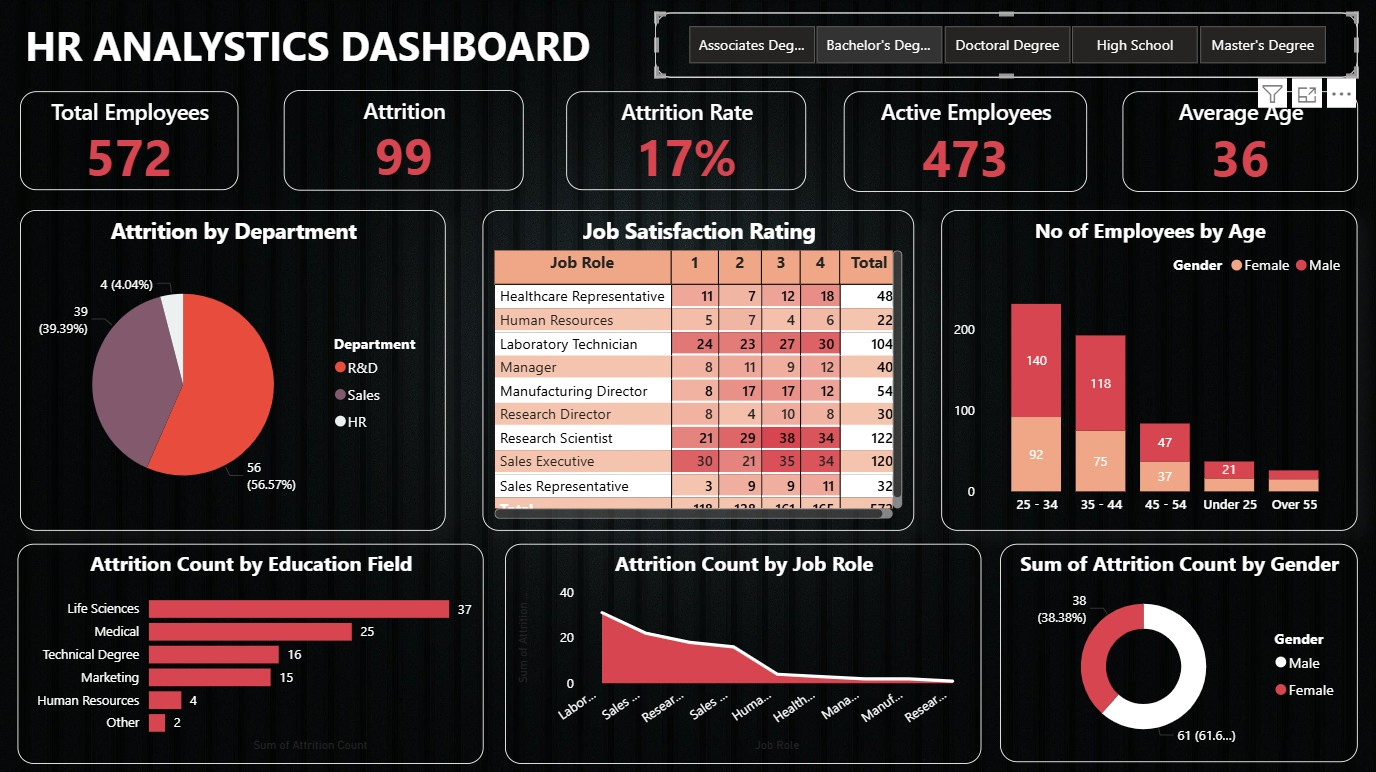

The dashboard page shown, as its layout file describes it:
{"tool":"powerbi","page":{"name":"Page 1","canvas":[1280,720],"ordinal":0},"visuals":[{"type":"card","title":"Total Employees","fields":{"Values":["Sum(HR data.Employee Count)"]},"box":[18.7,85,203,92.2],"z":0},{"type":"card","title":"Attrition","fields":{"Values":["Sum(HR data.Attrition Count)"]},"box":[263.5,83.5,223.2,93.6],"z":1000},{"type":"card","title":"Attrition Rate","fields":{"Values":["HR data.Attrition Rate"]},"box":[527,85,223.2,92.2],"z":2000},{"type":"card","title":"Average Age","fields":{"Values":["Avg(HR data.Age)"]},"box":[1044,85,218.9,93.6],"z":3000},{"type":"card","title":"Active Employees","fields":{"Values":["HR data.Active Employees"]},"box":[784.8,85,226.1,93.6],"z":4000},{"type":"pieChart","title":" Attrition by Department","fields":{"Category":["HR data.Department"],"Y":["Sum(HR data.Attrition Count)"]},"box":[18.7,195.8,396,298.1],"z":5000},{"type":"columnChart","title":"No of Employees  by Age ","fields":{"Series":["HR data.Gender"],"Category":["HR data.CF_age band"],"Y":["Sum(HR data.Employee Count)"]},"box":[875.5,195.8,387.4,298.1],"z":6000},{"type":"pivotTable","title":"Job Satisfaction Rating","fields":{"Rows":["HR data.Job Role"],"Columns":["HR data.Job Satisfaction"],"Values":["Sum(HR data.Employee Count)"]},"box":[449.3,195.8,401.8,298.1],"z":7000},{"type":"barChart","title":"Attrition Count by Education Field","fields":{"Category":["HR data.Education Field"],"Y":["Sum(HR data.Attrition Count)"]},"box":[15.8,505.4,433.4,204.5],"z":8000},{"type":"stackedAreaChart","title":"Attrition Count by Job Role","fields":{"Category":["HR data.Job Role"],"Y":["Sum(HR data.Attrition Count)"]},"box":[469.4,505.4,443.5,204.5],"z":9000},{"type":"donutChart","fields":{"Category":["HR data.Gender"],"Y":["Sum(HR data.Attrition Count)"]},"box":[930.2,505.4,332.6,203],"z":10000},{"type":"textbox","box":[18.7,11.5,590.4,60.5],"z":11000},{"type":"slicer","fields":{"Values":["HR data.Education"]},"box":[609.1,11.5,653.8,60.5],"z":12000}]}

Visuals, with their boxes in screenshot pixels (x1, y1, x2, y2), scaled from the page's 1280x720 canvas onto the 1376x772 screenshot:
"Total Employees" card: locate(20, 91, 238, 190)
"Attrition" card: locate(283, 90, 523, 190)
"Attrition Rate" card: locate(567, 91, 806, 190)
"Average Age" card: locate(1122, 91, 1358, 191)
"Active Employees" card: locate(844, 91, 1087, 191)
" Attrition by Department" pieChart: locate(20, 210, 446, 530)
"No of Employees  by Age " columnChart: locate(941, 210, 1358, 530)
"Job Satisfaction Rating" pivotTable: locate(483, 210, 915, 530)
"Attrition Count by Education Field" barChart: locate(17, 542, 483, 761)
"Attrition Count by Job Role" stackedAreaChart: locate(505, 542, 981, 761)
donutChart - HR data.Gender x Sum(HR data.Attrition Count): locate(1000, 542, 1358, 760)
textbox: locate(20, 12, 655, 77)
slicer - HR data.Education: locate(655, 12, 1358, 77)
